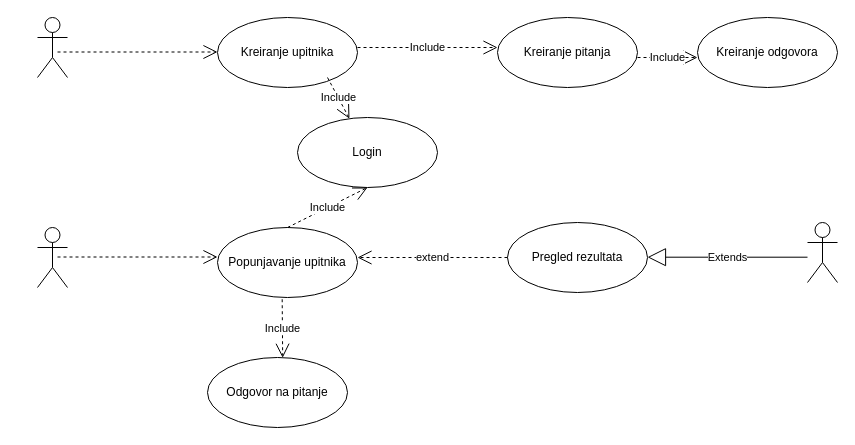
Image size: 855x445. Some labels were removed from this diagram. Here are the shapes that lost their labels. From the top down, the centre of each, then its label:
point 52,47: Administrator
point 52,257: Korinsik
point 822,252: Email
